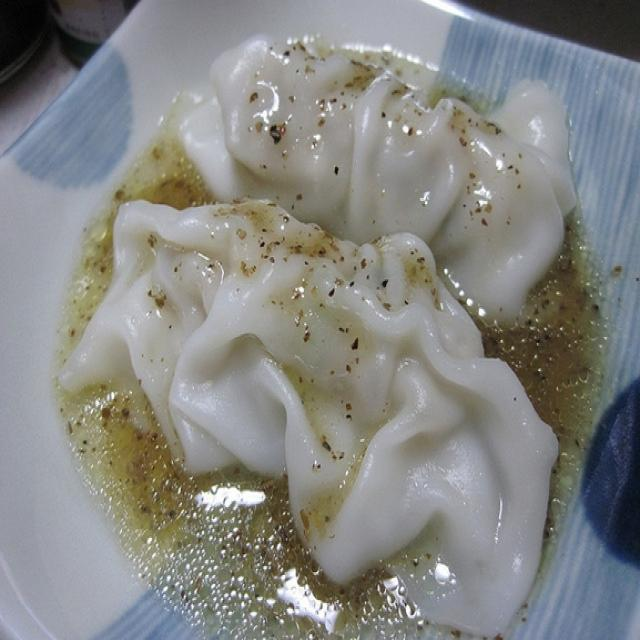带馅早点: (43, 31, 596, 624)
